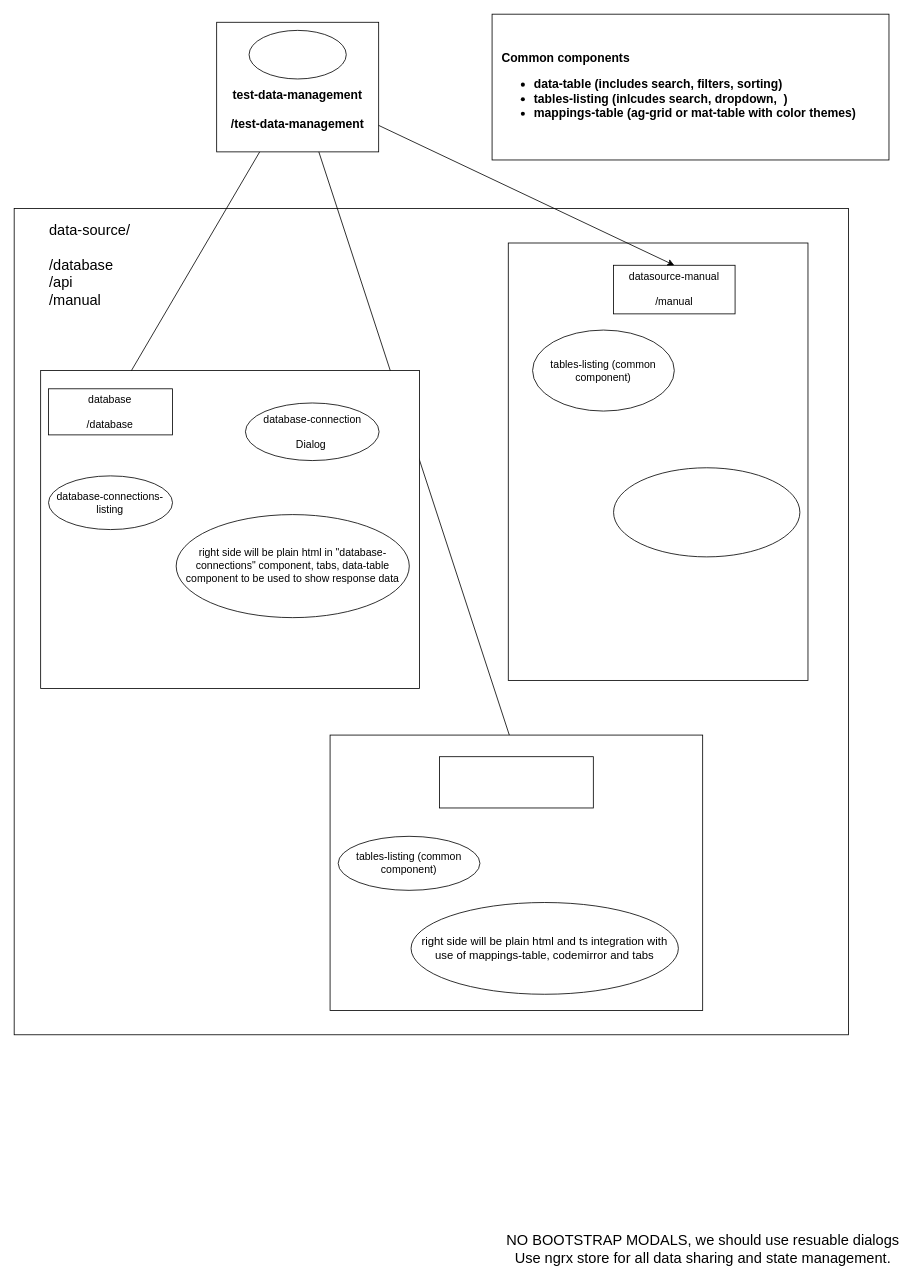
Image size: 919x1281. Some labels were removed from this diagram. The shapes that lost their labels are listed below. From the top down, each one's centre as x and y in pixels, then its label:
the point at 297,54: tdm-header
the point at 706,512: data-table (common component)
the point at 516,782: datasource-tables-api /api
